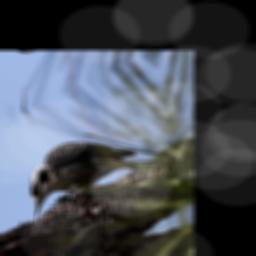Woodpecker: (14, 107, 147, 229)
